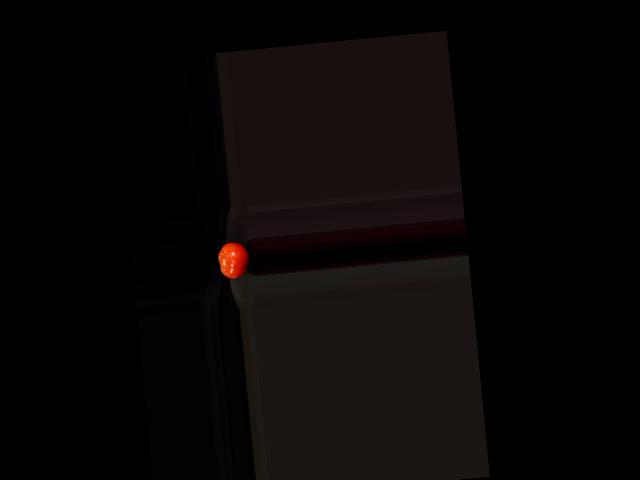tomato: (217, 240, 250, 279)
